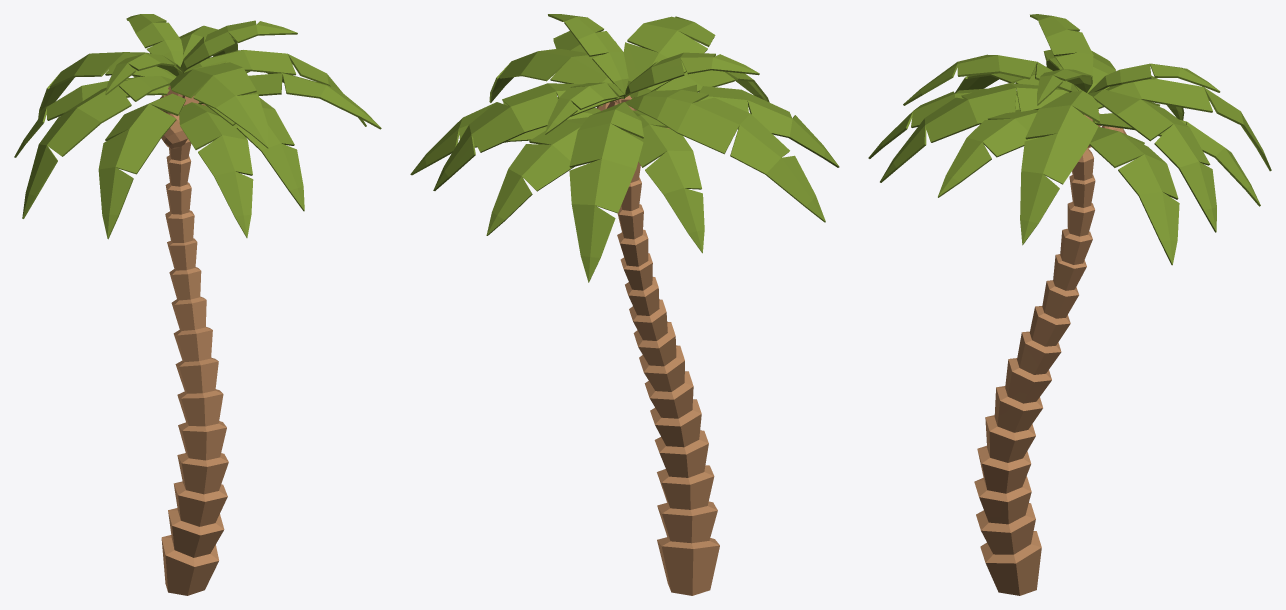
Rendered from Palm_9.fbx.
3 views of the same model, side by side, from view 1: azimuth 30°, elevation 25°; view 2: azimuth 150°, elevation 25°; view 3: azimuth 270°, elevation 25° (orthographic). The views are drawn at different scales.
Visible parts, largest first — view 1: Palm_9.001; view 2: Palm_9.001; view 3: Palm_9.001.
Boxes of the visible parts, left/top/right/bottom form: Palm_9.001: left=14, top=14, right=381, bottom=595; Palm_9.001: left=410, top=14, right=839, bottom=595; Palm_9.001: left=868, top=14, right=1271, bottom=595.
Bounding box in the file's own units: 2.64 × 3.97 × 2.61.
